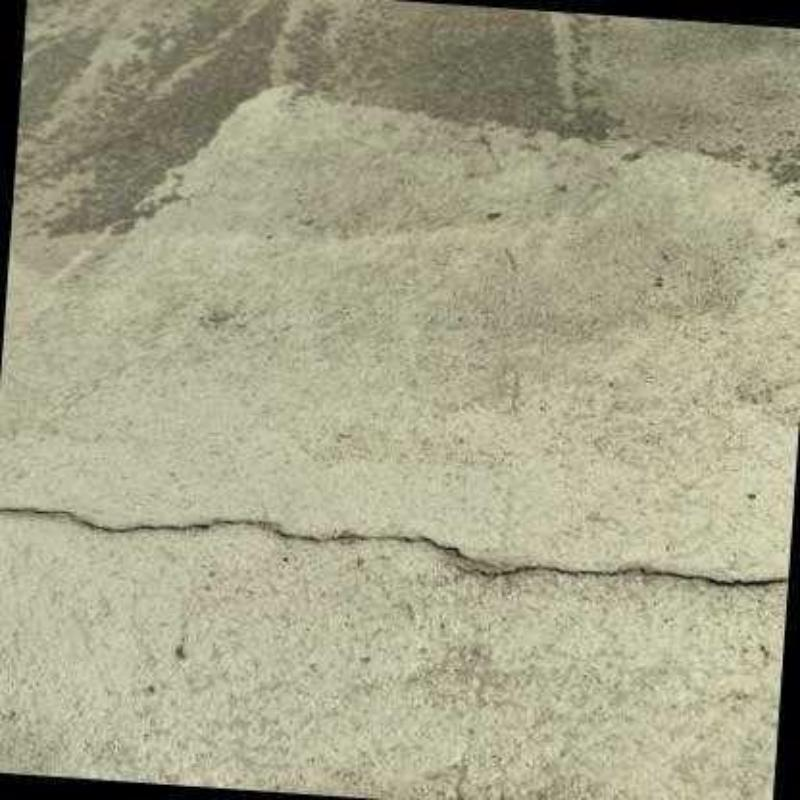pothole: (0, 506, 493, 564), (467, 565, 789, 590)
